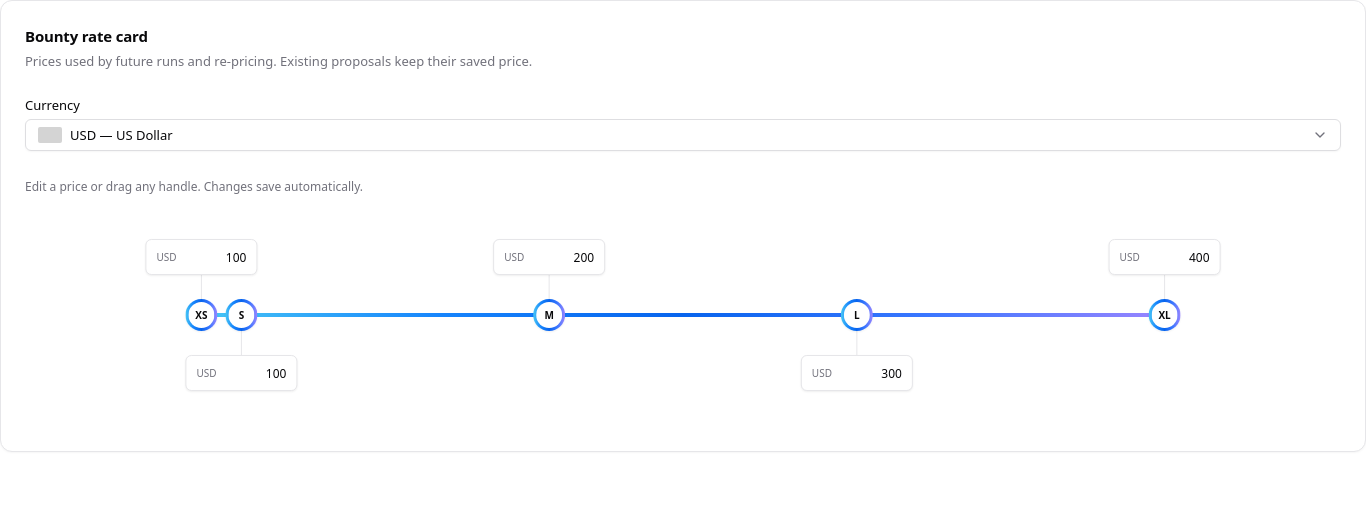
Test case: failed autosaves retain the edited rates and can be retried
Clear the field named "XL rate" at (1178, 257), box [1146,240,1210,274]
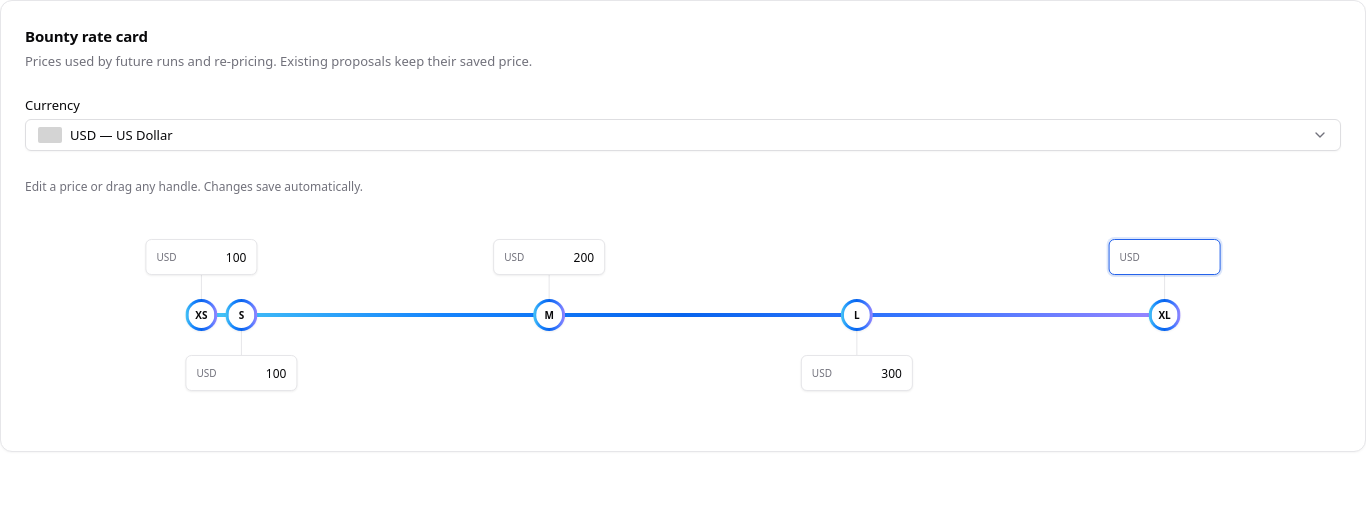
Type keys "700"
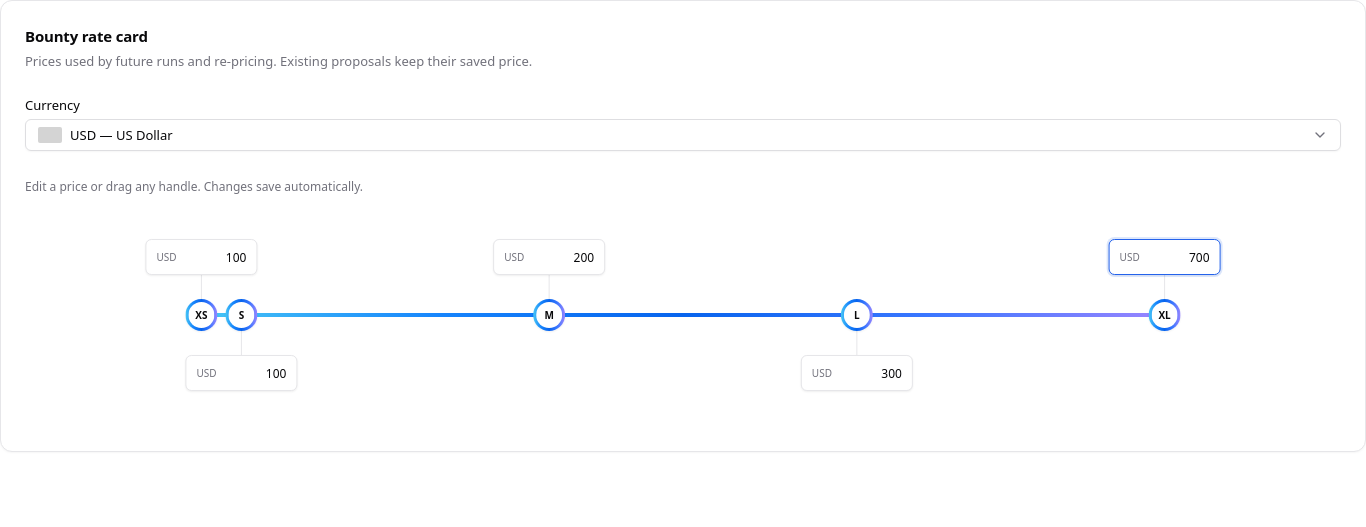
Press Enter
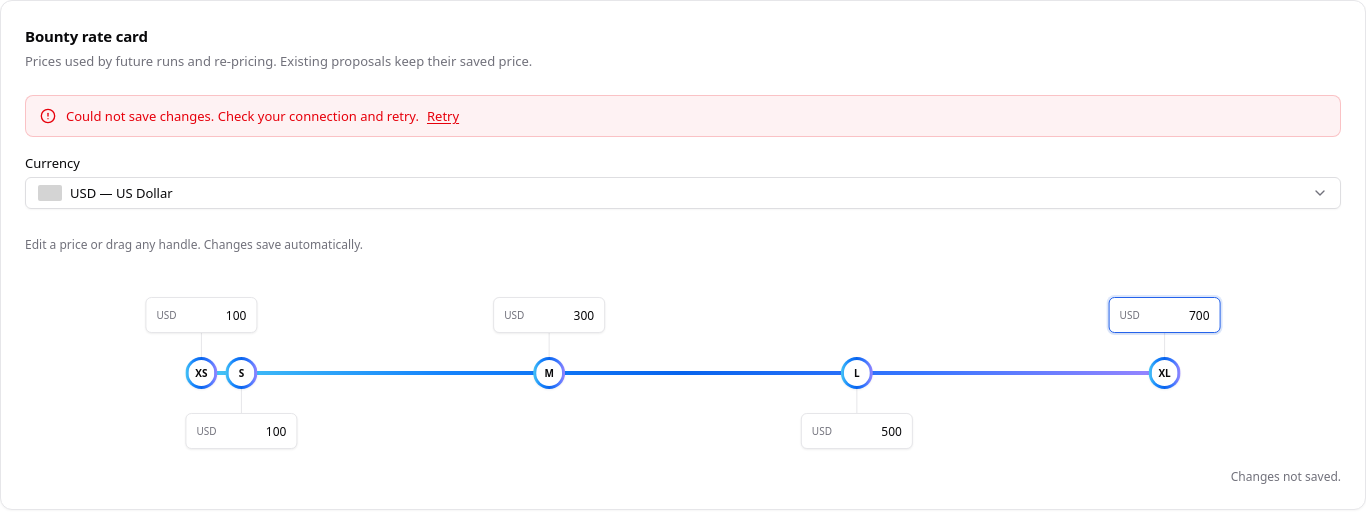
Expected: the message "Could not save changes. Check your connection and retry. Retry" is shown, [66,106,459,126]
Click the button "Retry".
click(443, 116)  # box [427,106,459,126]
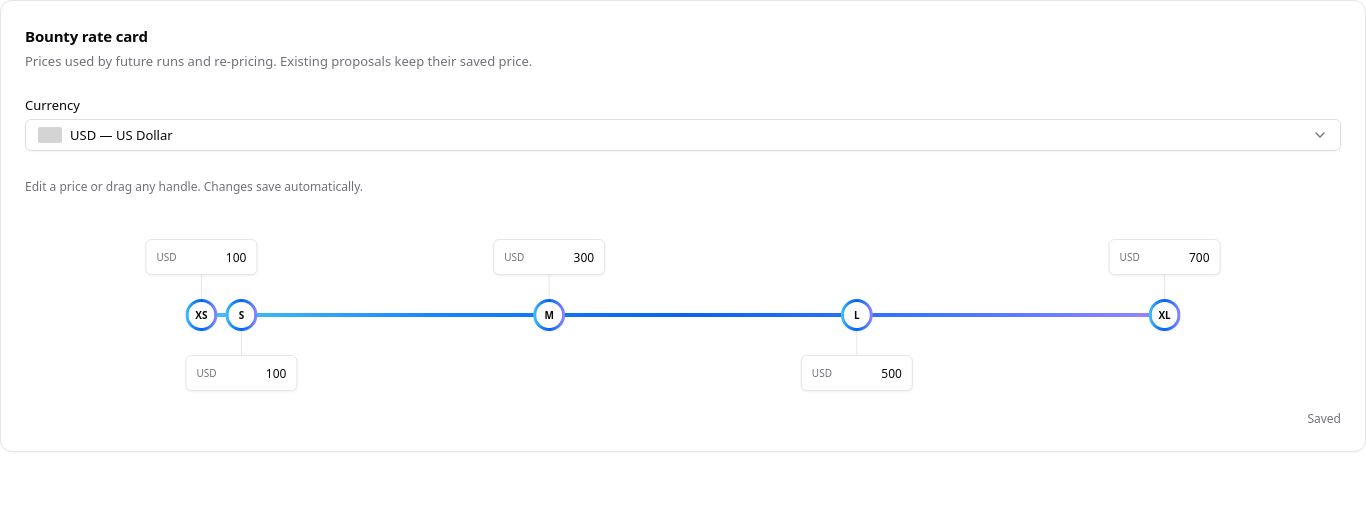
Expected: the message "Could not save changes. Check your connection and retry. Retry" is gone
